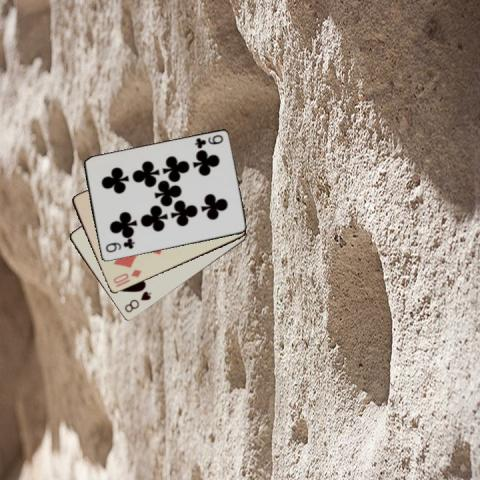10d: (110, 266, 143, 288)
8s: (121, 288, 153, 314)
9c: (192, 132, 224, 150), (103, 238, 136, 254)
